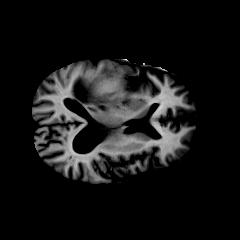glioma: (77, 72, 131, 110)
